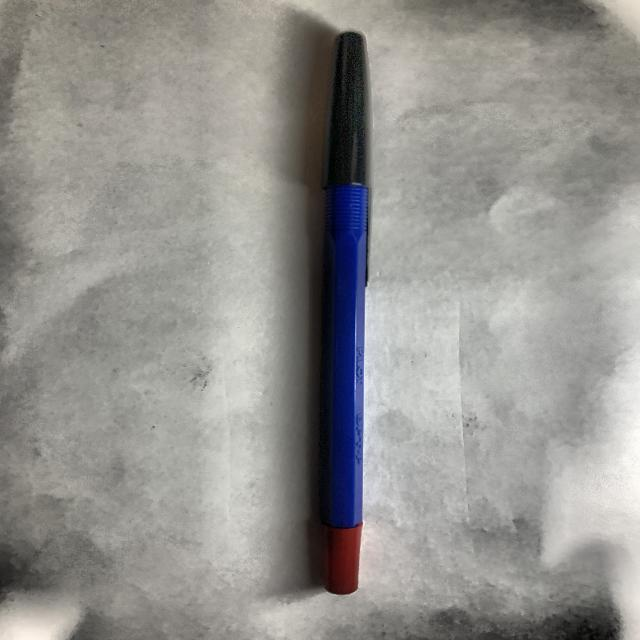Pulpen: (301, 26, 383, 608)
